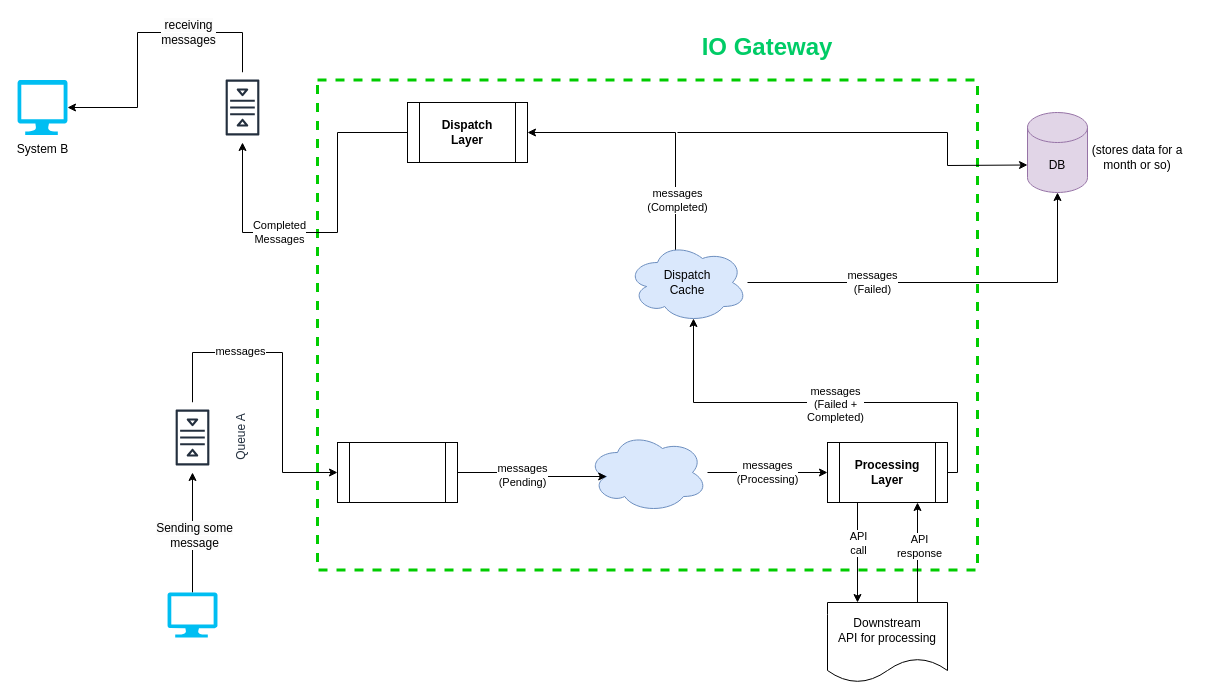
This 1205x700 diagram has some shape labels left out. Each missing label, with the centre of its shape:
Consumer Cache: the point at 647,472
Listener: the point at 397,472
Queue B: the point at 242,107
System A: the point at 192,614
